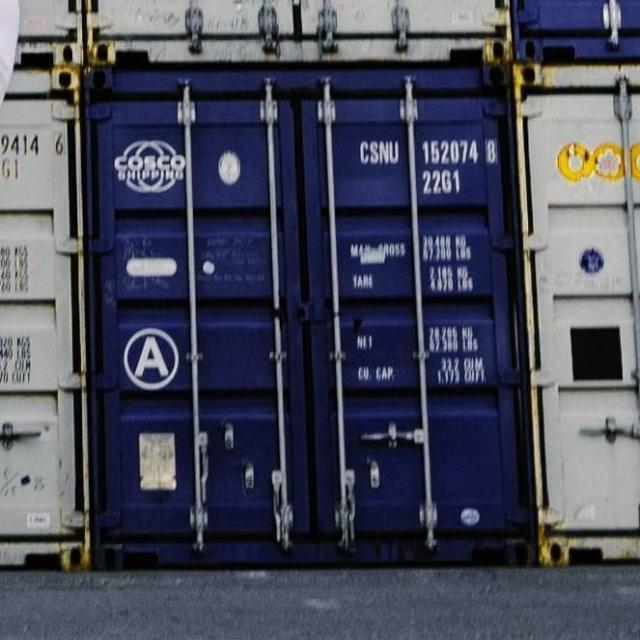ISO: (422, 171, 462, 195)
container_number: (361, 140, 498, 165)
